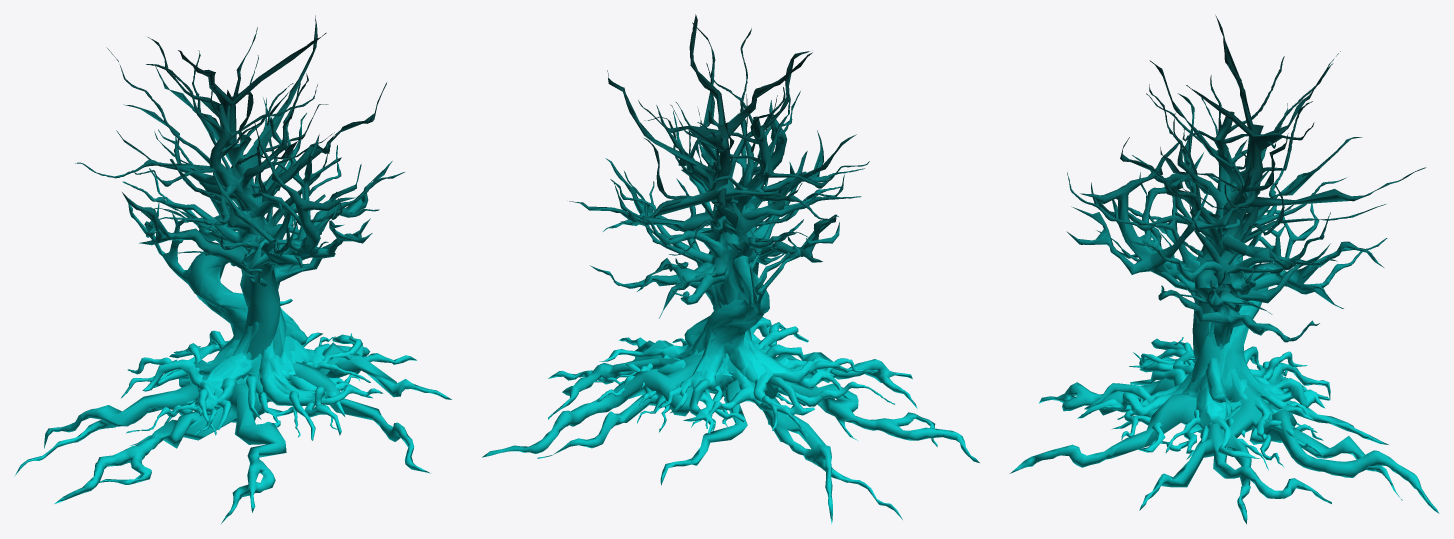
Rendered from Modified_OakTrees_PureNaturePack.fbx.
The picture shows the model from 3 angles, left to right: view 1: azimuth 30°, elevation 25°; view 2: azimuth 150°, elevation 25°; view 3: azimuth 270°, elevation 25°; orthographic projection. The views are drawn at different scales.
Visible parts, largest first — view 1: Oaktree02_LOD0_Trunk, Oaktree04_LOD0_Trunk, Oaktree03_LOD0_Trunk, Oaktree02_LOD1_Trunk, Oaktree03_LOD1_Trunk, Oaktree04_LOD1_Trunk, Oaktree01_LOD0_Trunk, Oaktree01_LOD1_Trunk; view 2: Oaktree02_LOD0_Trunk, Oaktree03_LOD0_Trunk, Oaktree04_LOD0_Trunk, Oaktree02_LOD1_Trunk, Oaktree01_LOD0_Trunk, Oaktree04_LOD1_Trunk, Oaktree03_LOD1_Trunk, Oaktree01_LOD1_Trunk; view 3: Oaktree02_LOD0_Trunk, Oaktree04_LOD0_Trunk, Oaktree03_LOD0_Trunk, Oaktree02_LOD1_Trunk, Oaktree01_LOD0_Trunk, Oaktree01_LOD1_Trunk, Oaktree04_LOD1_Trunk, Oaktree03_LOD1_Trunk.
Boxes of the visible parts, bbox=[...] form: Oaktree02_LOD0_Trunk: bbox=[14, 15, 451, 523]; Oaktree04_LOD0_Trunk: bbox=[128, 97, 372, 440]; Oaktree03_LOD0_Trunk: bbox=[75, 47, 404, 435]; Oaktree02_LOD1_Trunk: bbox=[118, 23, 384, 383]; Oaktree03_LOD1_Trunk: bbox=[86, 53, 400, 383]; Oaktree04_LOD1_Trunk: bbox=[134, 133, 352, 385]; Oaktree01_LOD0_Trunk: bbox=[154, 91, 370, 437]; Oaktree01_LOD1_Trunk: bbox=[160, 100, 368, 289]; Oaktree02_LOD0_Trunk: bbox=[482, 16, 979, 524]; Oaktree03_LOD0_Trunk: bbox=[596, 28, 894, 436]; Oaktree04_LOD0_Trunk: bbox=[599, 100, 851, 434]; Oaktree02_LOD1_Trunk: bbox=[581, 14, 844, 376]; Oaktree01_LOD0_Trunk: bbox=[590, 94, 844, 432]; Oaktree04_LOD1_Trunk: bbox=[670, 129, 832, 389]; Oaktree03_LOD1_Trunk: bbox=[616, 29, 864, 378]; Oaktree01_LOD1_Trunk: bbox=[599, 100, 842, 310]; Oaktree02_LOD0_Trunk: bbox=[1010, 15, 1439, 524]; Oaktree04_LOD0_Trunk: bbox=[1066, 142, 1329, 458]; Oaktree03_LOD0_Trunk: bbox=[1067, 51, 1387, 470]; Oaktree02_LOD1_Trunk: bbox=[1096, 42, 1415, 409]; Oaktree01_LOD0_Trunk: bbox=[1097, 113, 1385, 467]; Oaktree01_LOD1_Trunk: bbox=[1118, 116, 1371, 416]; Oaktree04_LOD1_Trunk: bbox=[1084, 164, 1313, 416]; Oaktree03_LOD1_Trunk: bbox=[1067, 64, 1383, 405].
Size of the model in its own units: 1168 by 1168 by 1076.
